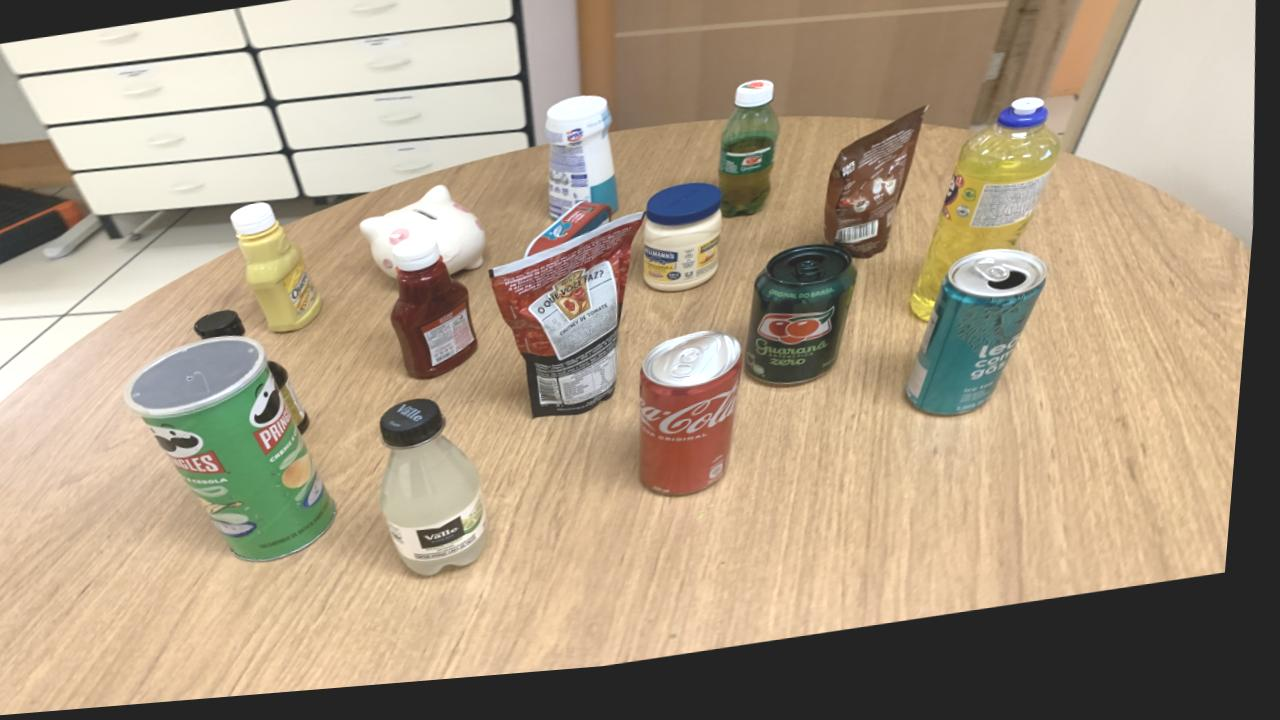Cleaner-Cleanup_Items: (548, 105, 621, 228)
Coffee-Pantry_Items: (829, 123, 927, 273)
Coke-Drinks: (647, 343, 748, 508)
Detergent-Cleanup_Items: (918, 114, 1065, 337)
English_Sauce-Pantry_Items: (274, 366, 317, 438), (198, 314, 251, 344)
Guarana-Drinks: (721, 92, 781, 230)
Guarana_Can-Drinks: (753, 258, 862, 400)
Ketchup-Pantry_Items: (396, 241, 484, 386)
Mayonnaise-Pantry_Items: (649, 195, 727, 304)
Mustard-Pantry_Items: (235, 206, 326, 337)
Pig_Safe-Miscellaneous: (363, 193, 489, 283)
Pringles-Snacks: (131, 339, 345, 567)
Soda-Drinks: (387, 406, 495, 583)
Tea-Drinks: (913, 266, 1053, 432)
Tomato_Sauce-Pantry_Items: (496, 224, 649, 426)
Tuna_Can-Pantry_Items: (529, 211, 616, 265)
